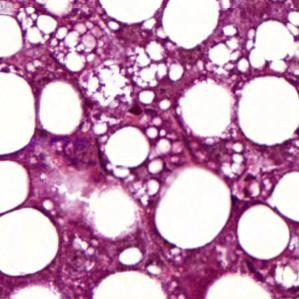steatosis: (155, 166, 230, 253), (237, 205, 288, 261), (37, 82, 89, 134), (105, 125, 153, 170)
